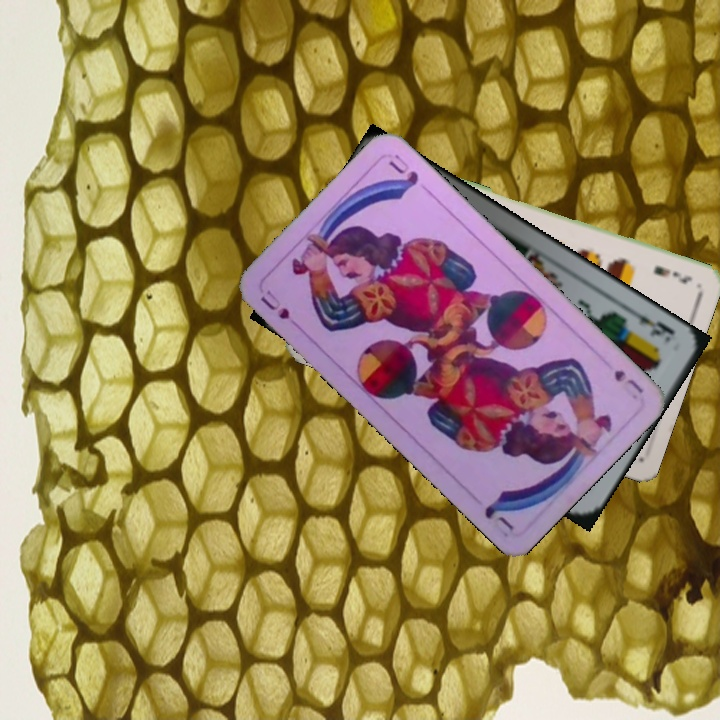E7: (649, 262, 695, 286)
EK: (626, 304, 677, 346)
SU: (256, 286, 304, 331), (609, 366, 646, 396)
